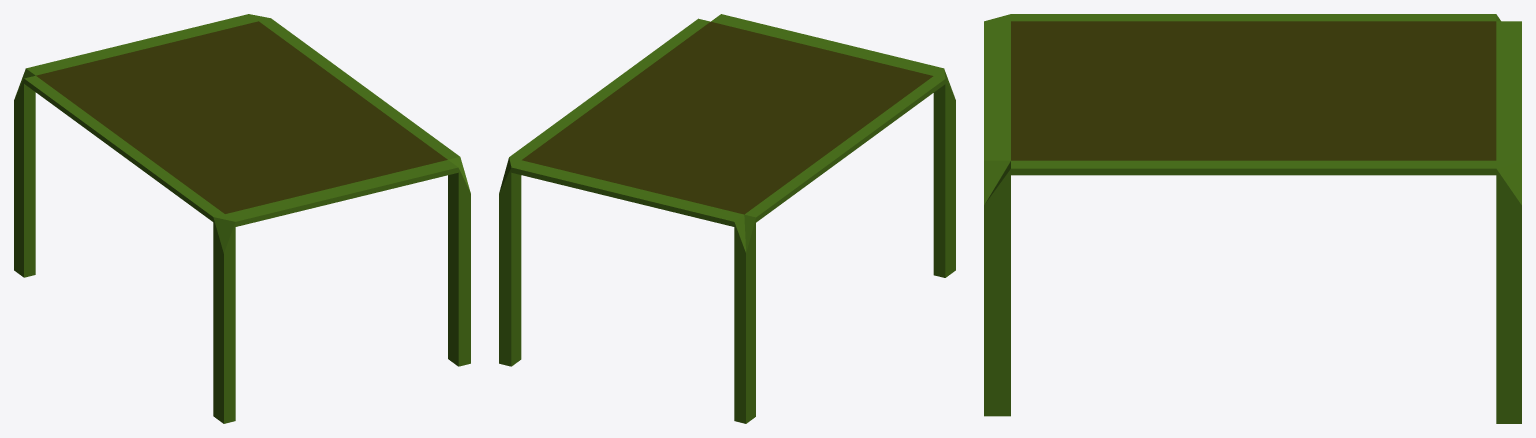
File: mr_kraba.obj
The picture shows the model from 3 angles, left to right: view 1: azimuth 30°, elevation 25°; view 2: azimuth 150°, elevation 25°; view 3: azimuth 270°, elevation 25°; orthographic projection. The views are drawn at different scales.
Parts seen in each view (by area): view 1: Cube_Cube.001; view 2: Cube_Cube.001; view 3: Cube_Cube.001.
Boxes of the visible parts, bbox=[...] form: Cube_Cube.001: bbox=[14, 14, 470, 423]; Cube_Cube.001: bbox=[499, 14, 955, 423]; Cube_Cube.001: bbox=[984, 14, 1521, 423].
Size of what is drawn, in the model's own units: 2 by 1.54 by 2.94.
